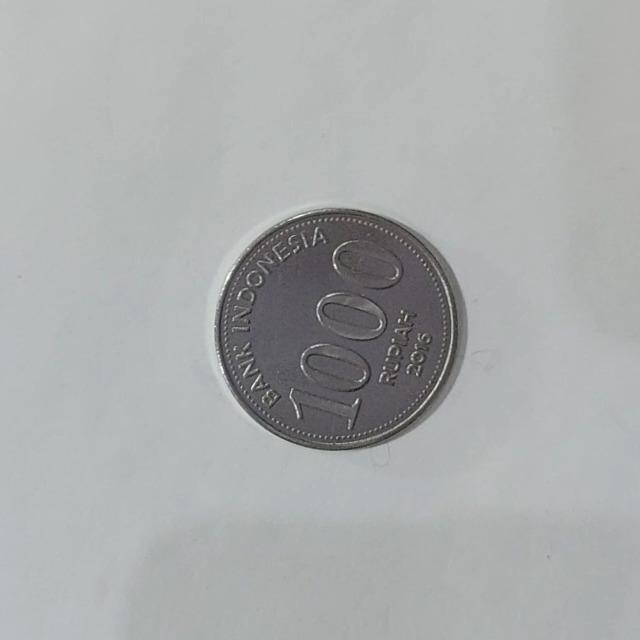Rp100: (212, 204, 466, 452)
